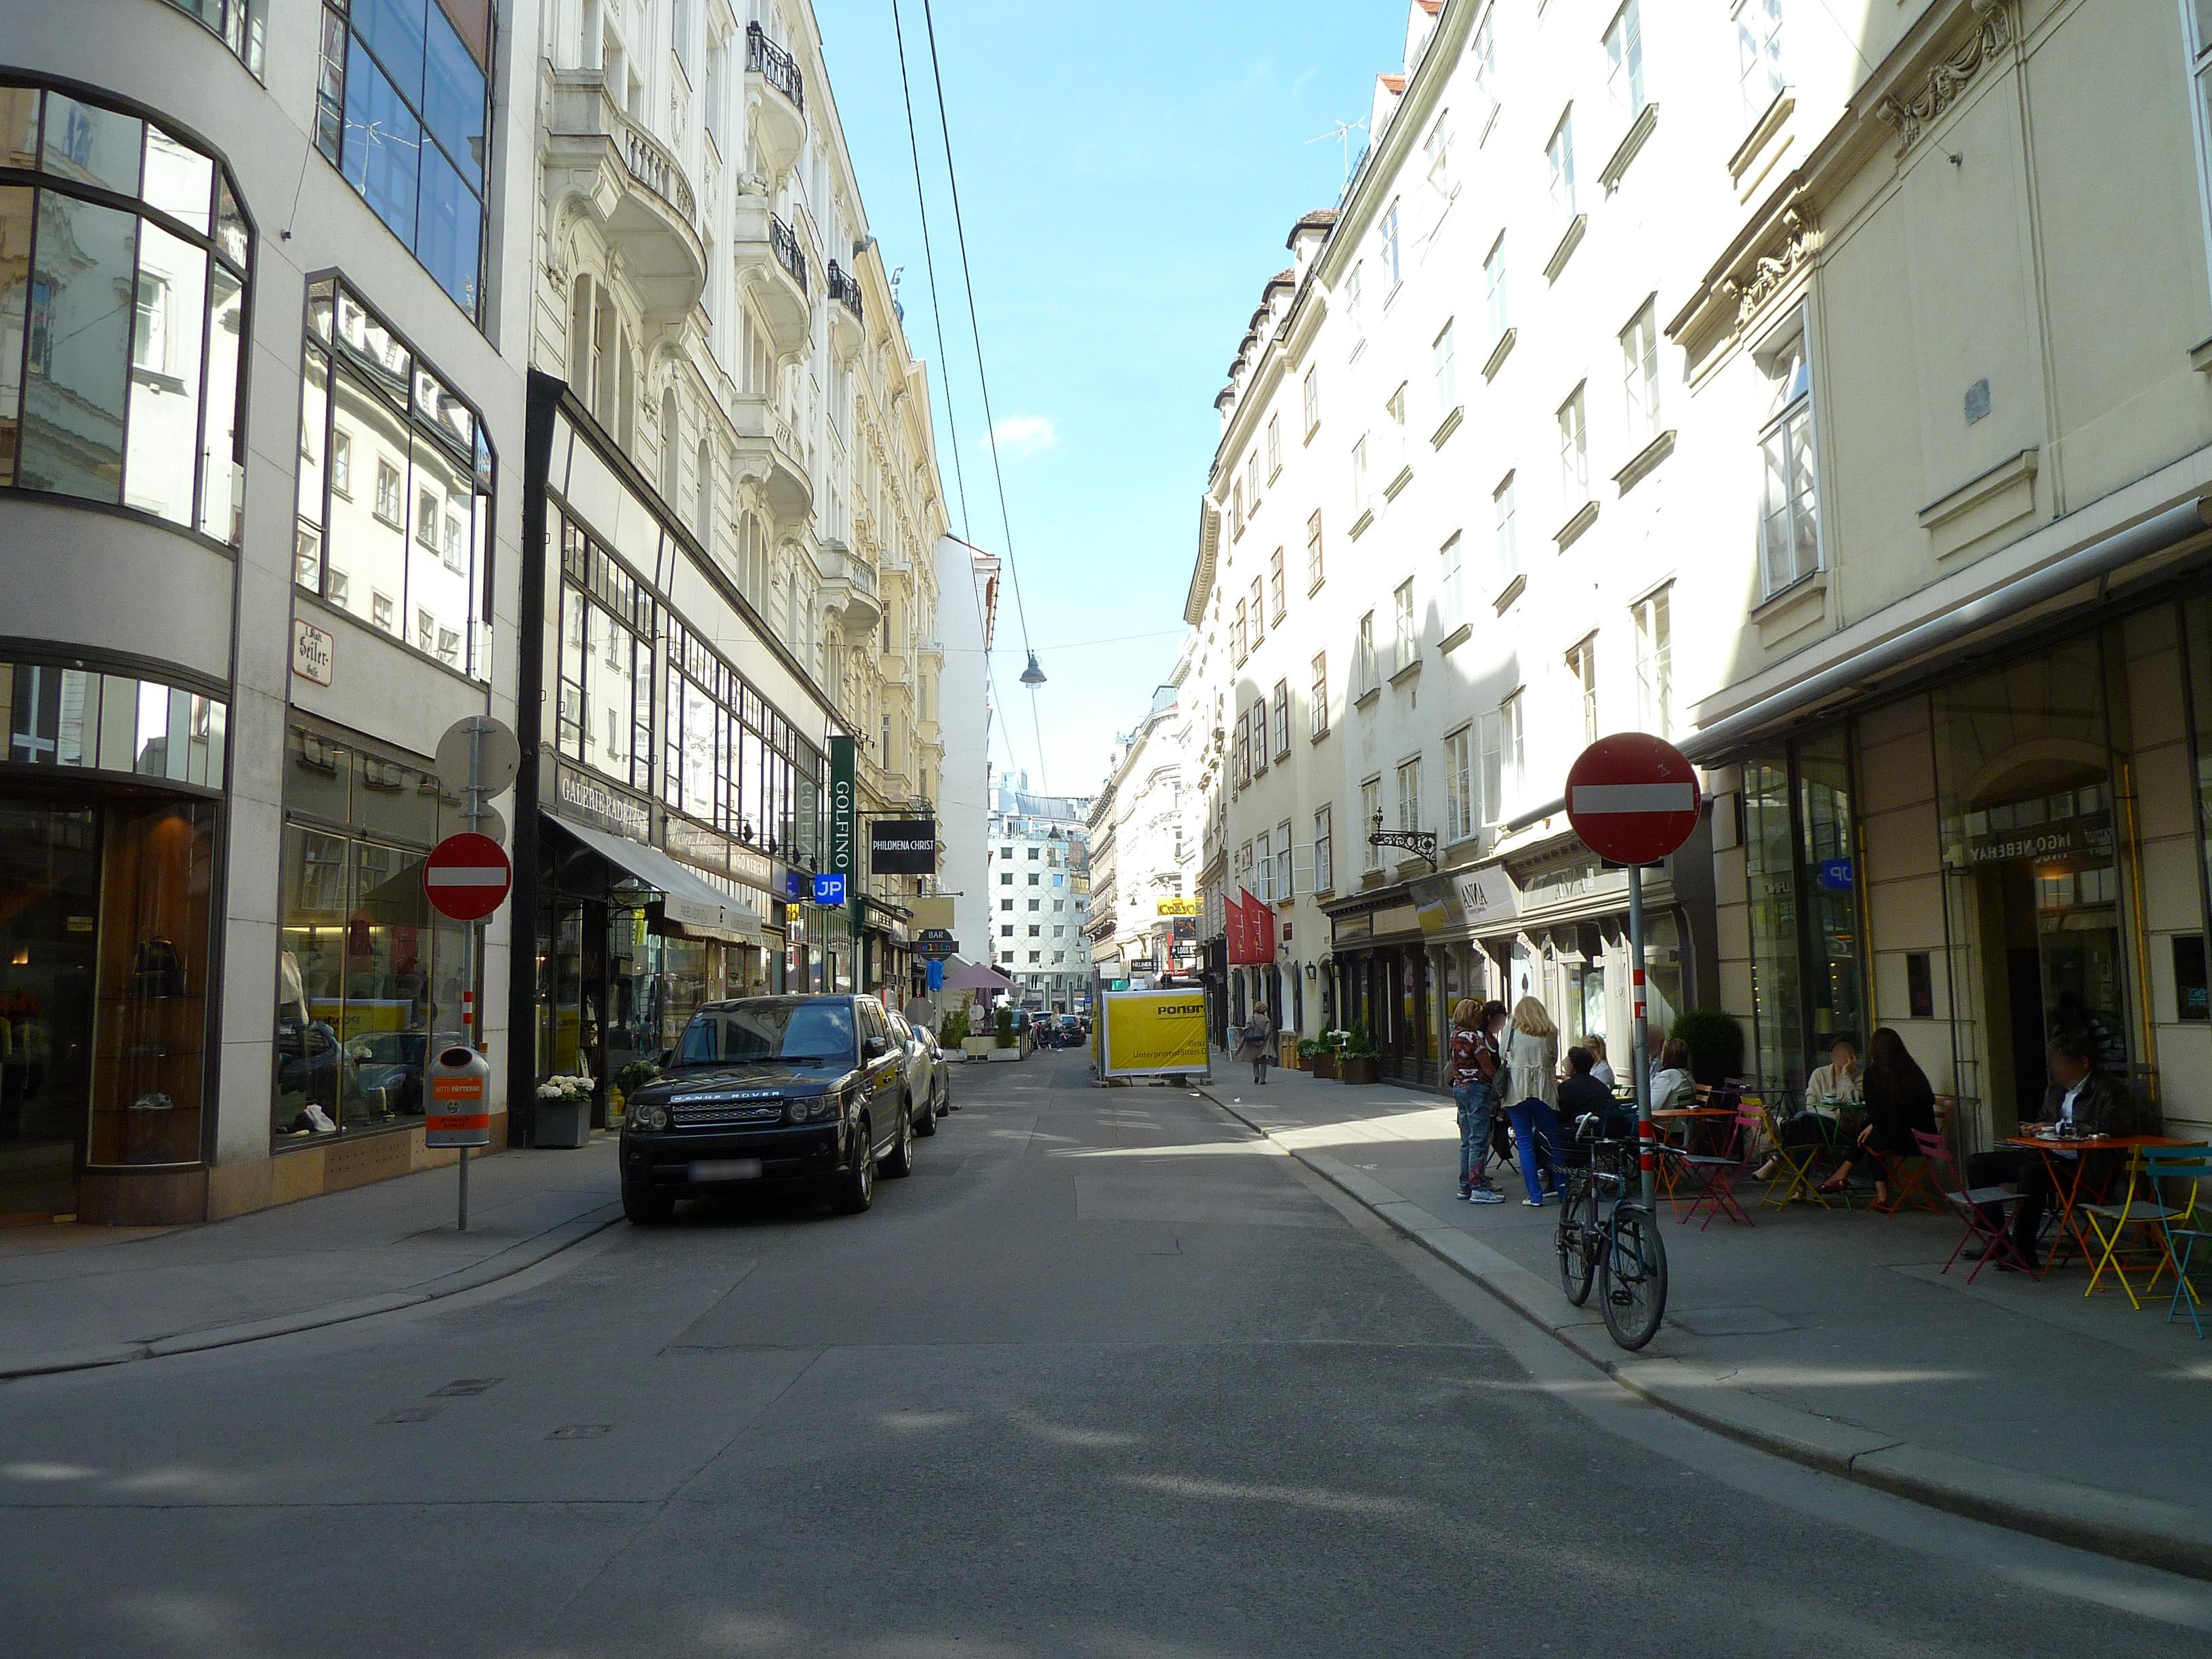vinyl banner: (1101, 976, 1211, 1075)
